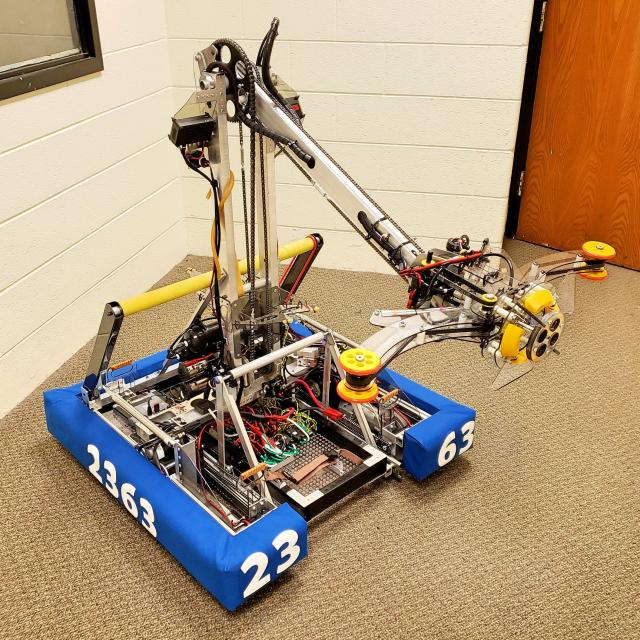robot: (39, 16, 615, 619)
